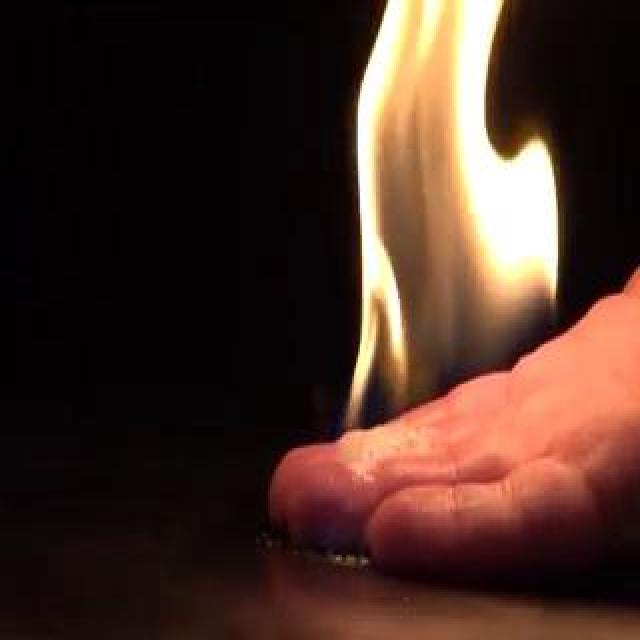Fire: (352, 3, 546, 429)
